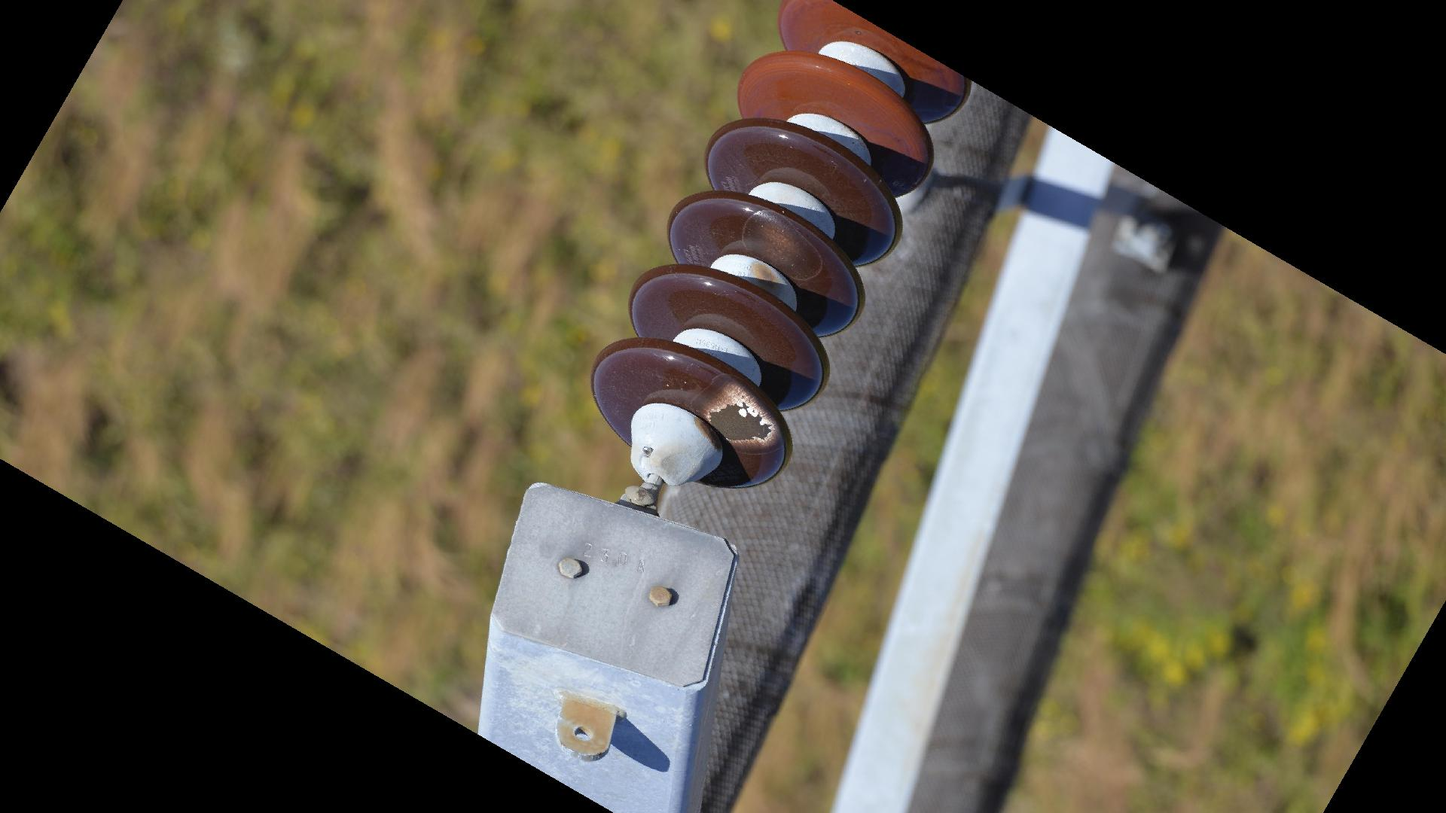insulator: (585, 1, 977, 495)
insulator_flashover: (742, 209, 825, 285), (703, 385, 777, 446)
